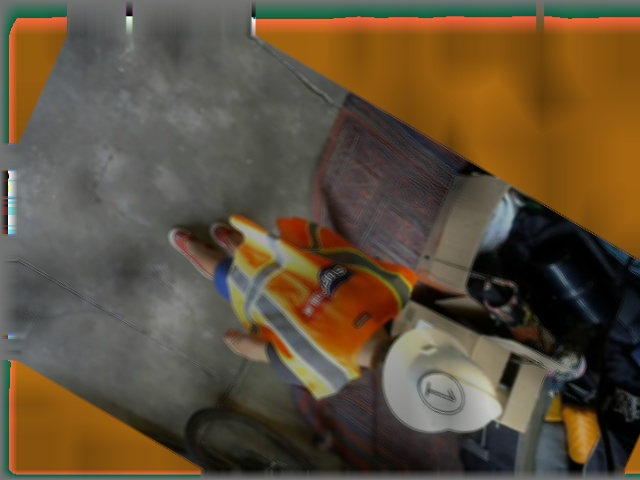one: (411, 361, 470, 421)
